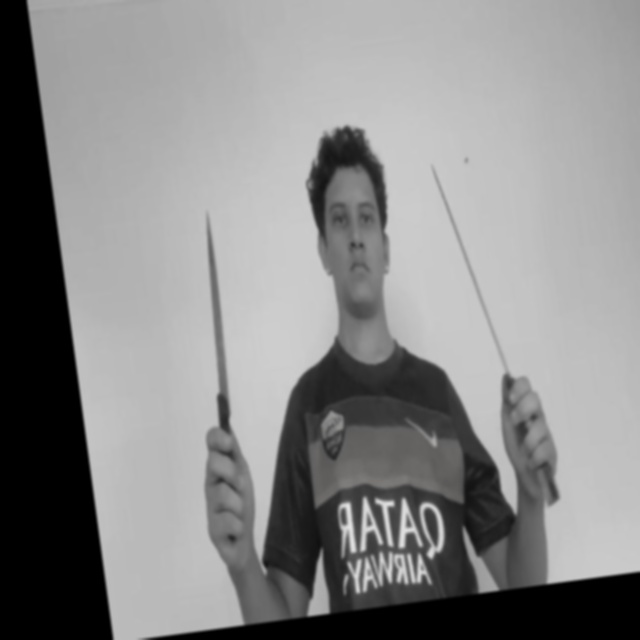Sharp-Object: (431, 157, 508, 378), (193, 210, 236, 404)
